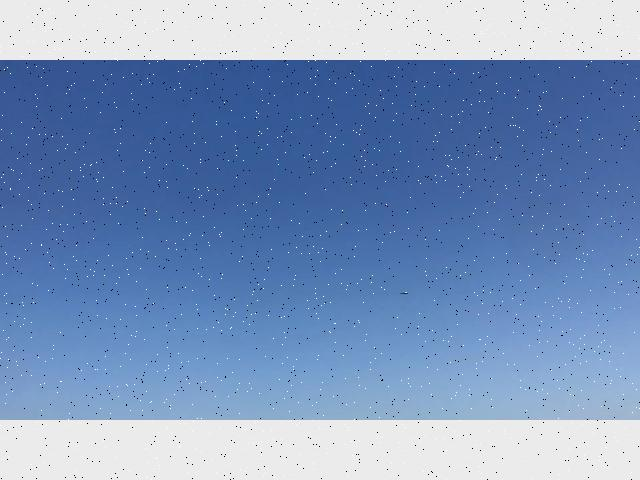Anti-Drone: (386, 286, 420, 302)
